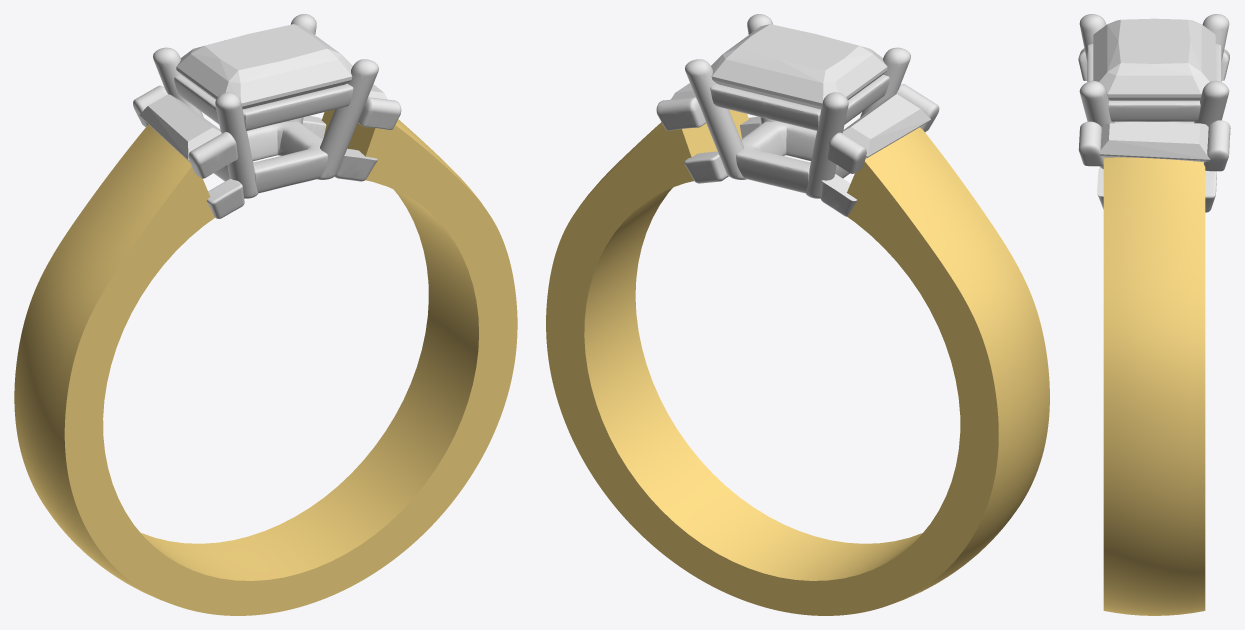
File: RhondaEastWest.glb
3 renders of one model, left to right at view 1: azimuth 30°, elevation 25°; view 2: azimuth 150°, elevation 25°; view 3: azimuth 270°, elevation 25°, orthographic.
Parts seen in each view (by area): view 1: v2 Rhonda YG for 3d model, v2 Rhonda PT for 3d model, v2 Rhonda dia center for 3d model, v2 Rhonda dia sides for 3d model.001; view 2: v2 Rhonda YG for 3d model, v2 Rhonda PT for 3d model, v2 Rhonda dia center for 3d model, v2 Rhonda dia sides for 3d model.001; view 3: v2 Rhonda YG for 3d model, v2 Rhonda dia center for 3d model, v2 Rhonda PT for 3d model, v2 Rhonda dia sides for 3d model.
Boxes of the visible parts, bbox=[...] form: v2 Rhonda YG for 3d model: bbox=[14, 109, 517, 615]; v2 Rhonda PT for 3d model: bbox=[133, 14, 401, 218]; v2 Rhonda dia center for 3d model: bbox=[176, 24, 352, 109]; v2 Rhonda dia sides for 3d model.001: bbox=[139, 94, 221, 161]; v2 Rhonda YG for 3d model: bbox=[546, 109, 1049, 615]; v2 Rhonda PT for 3d model: bbox=[656, 14, 939, 216]; v2 Rhonda dia center for 3d model: bbox=[711, 24, 887, 109]; v2 Rhonda dia sides for 3d model.001: bbox=[842, 94, 930, 158]; v2 Rhonda YG for 3d model: bbox=[1103, 157, 1205, 615]; v2 Rhonda dia center for 3d model: bbox=[1093, 18, 1215, 100]; v2 Rhonda PT for 3d model: bbox=[1078, 14, 1230, 212]; v2 Rhonda dia sides for 3d model: bbox=[1099, 123, 1210, 161].
Bounding box in the file's own units: 23.65 × 26.76 × 6.72.
